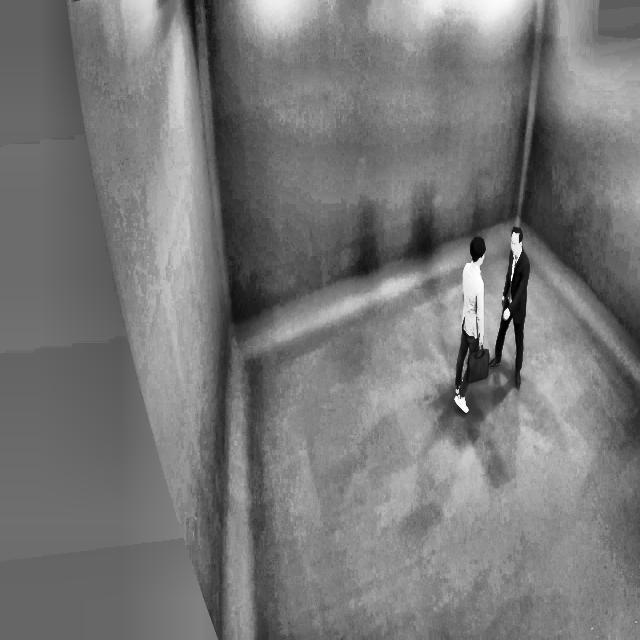assult: (458, 220, 531, 416)
